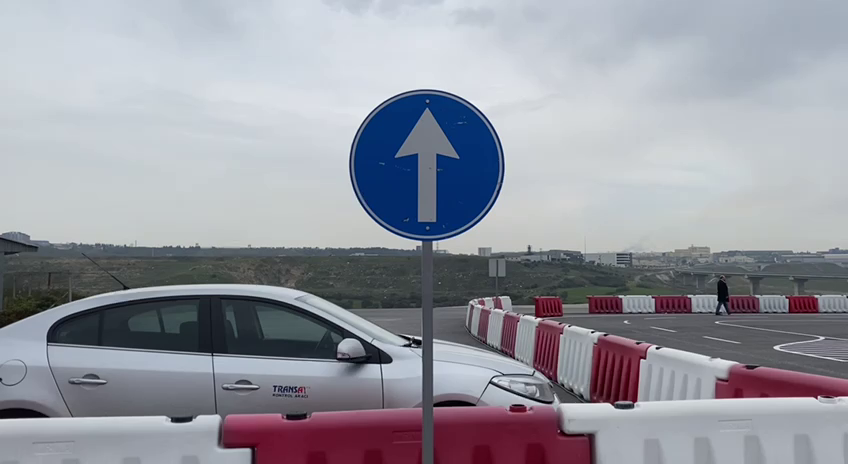forward: (342, 83, 508, 248)
